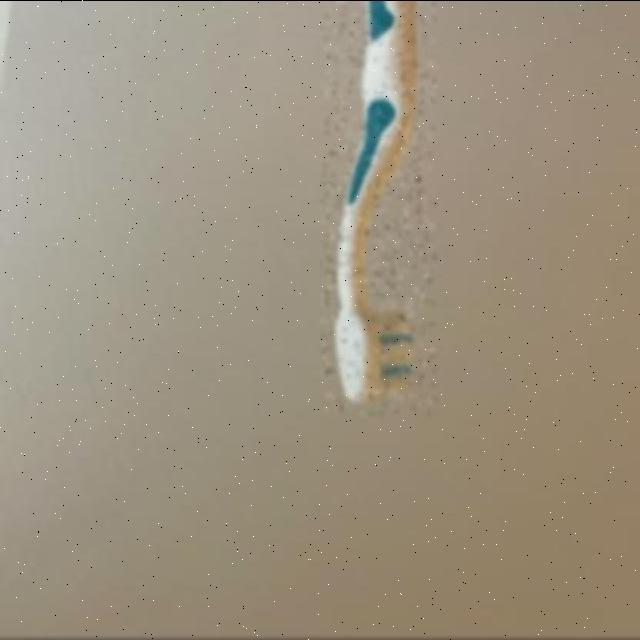toothbrush: (322, 1, 434, 416)
